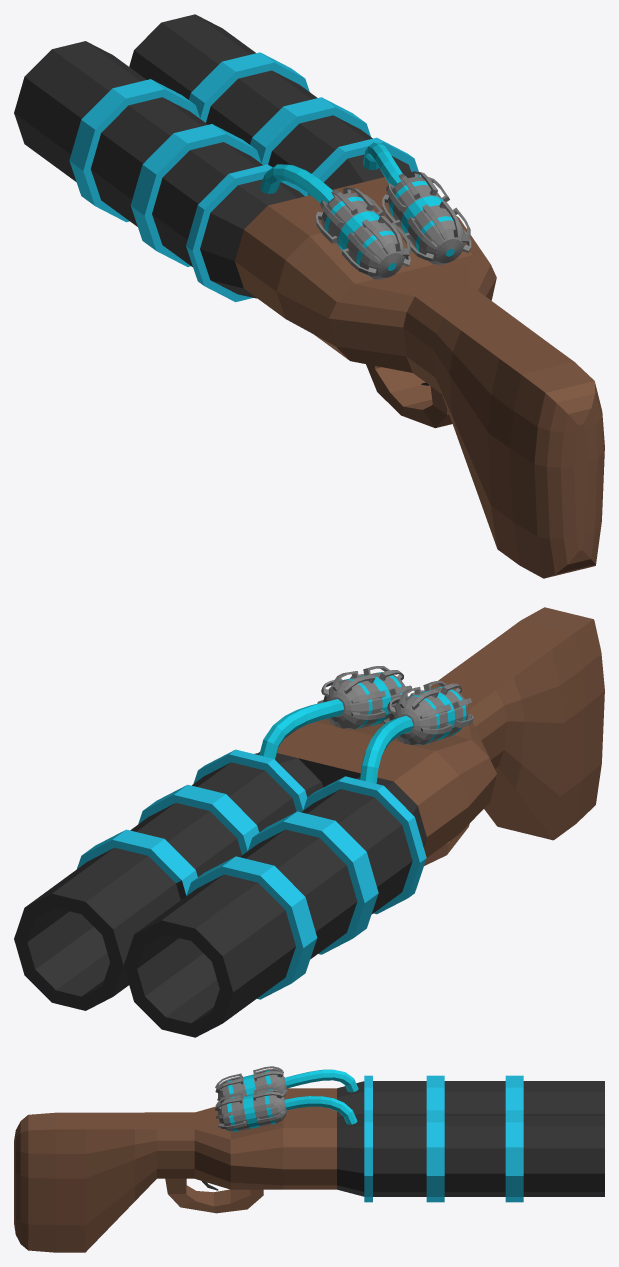
Rendered from Shotgun.fbx.
3 renders of one model, top to bottom at view 1: azimuth 30°, elevation 25°; view 2: azimuth 150°, elevation 25°; view 3: azimuth 270°, elevation 25°, orthographic. The views are drawn at different scales.
Visible parts, largest first — view 1: Body, Battery, tube; view 2: Body, Battery, tube; view 3: Body, Battery, tube.
Part boxes in pixels (x1,y1,x2,y2): Body: [14, 14, 604, 578]; Battery: [315, 171, 471, 279]; tube: [260, 142, 402, 203]; Body: [14, 607, 604, 1037]; Battery: [317, 666, 473, 745]; tube: [259, 699, 413, 783]; Body: [14, 1075, 604, 1252]; Battery: [215, 1066, 287, 1131]; tube: [284, 1069, 358, 1124].
Bounding box in the file's own units: 39.66 × 134 × 41.24.
